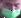with_mask: (1, 2, 21, 18)
